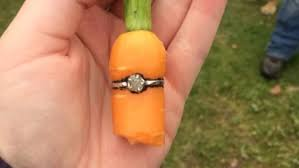carrot: (101, 22, 174, 152)
